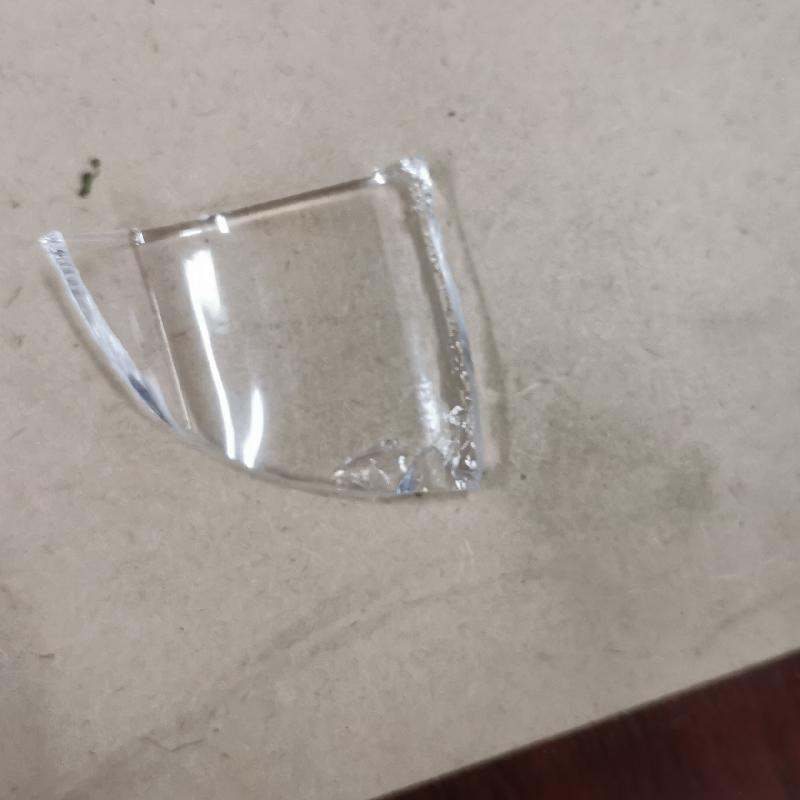glass: (37, 157, 496, 501)
